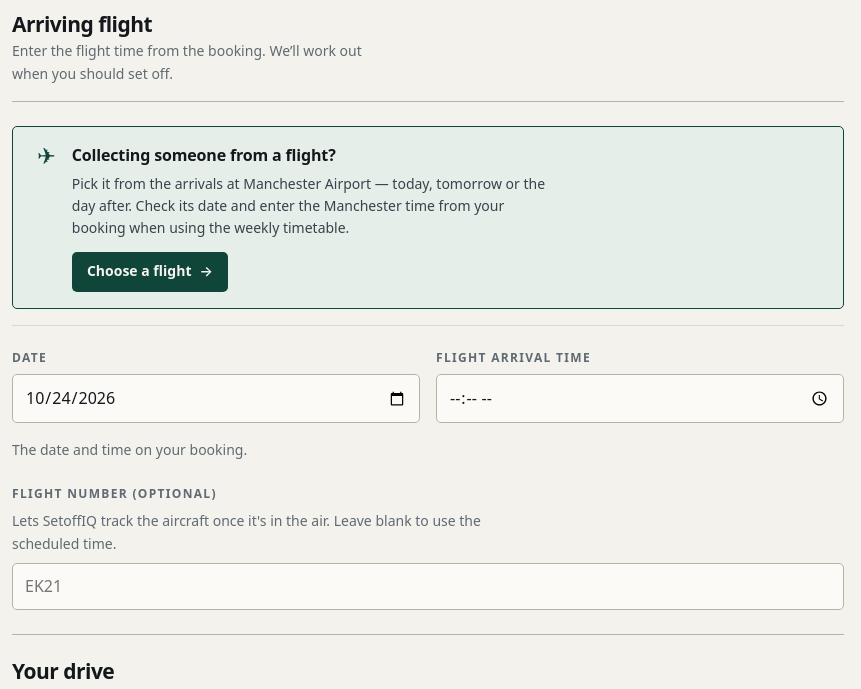
Test: choosing from the airline schedule › lists arrivals with their state, and a pick fills in the booking time
Click the button "Collecting someone from a flight".
click(428, 217)  # box [12,126,844,309]
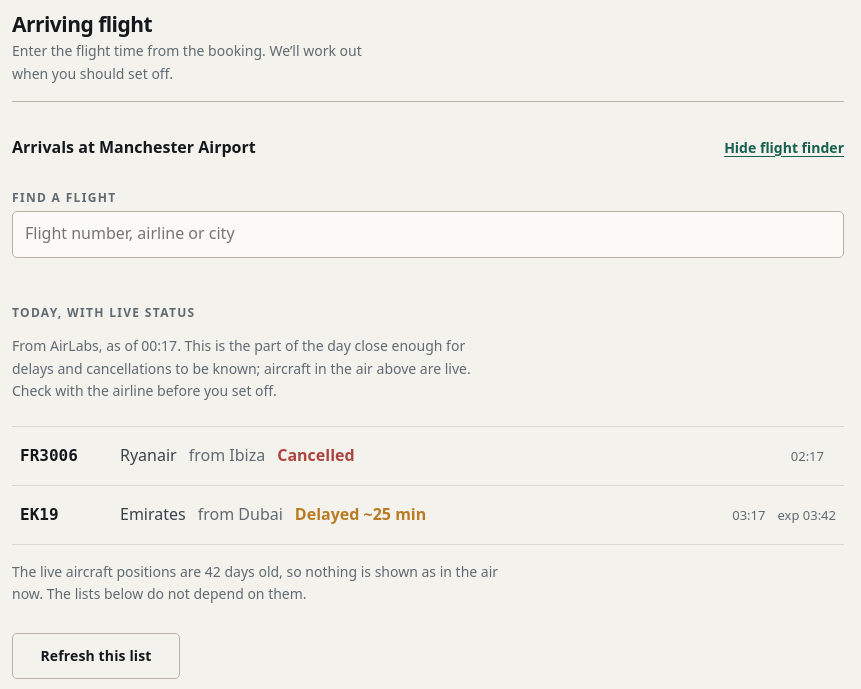
Expected: the button "FR3006 Ryanair from Ibiza Cancelled 02:17" is shown, [12,428,844,486]
Click the button "EK19 Emirates from Dubai Delayed ~25 min 03:17 exp 03:42".
click(428, 515)  # box [12,486,844,545]
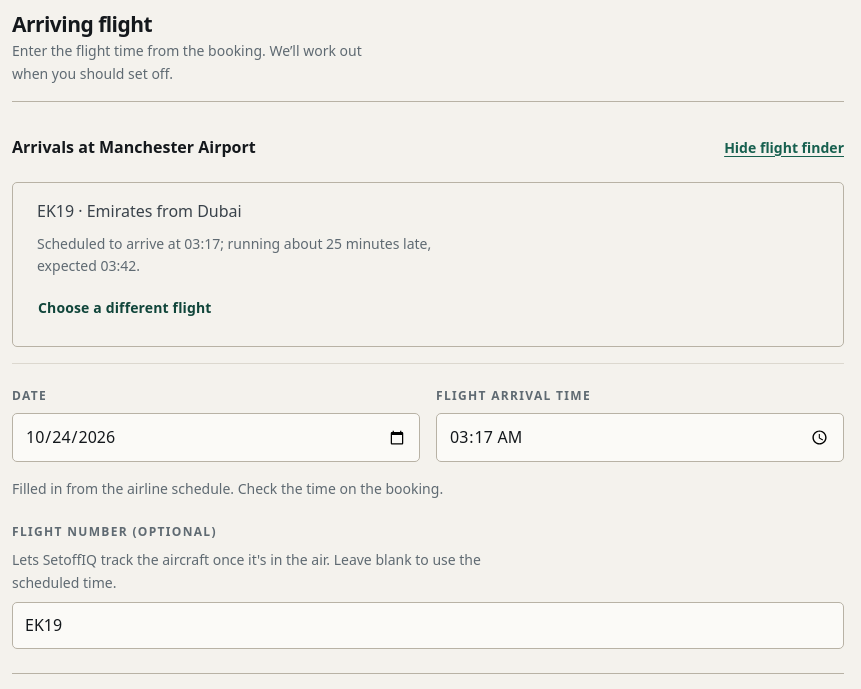
Expected: the field labelled "Flight number (optional)" holds "EK19", [12,602,844,649]
Expected: the message shows "running about 25 minutes late", [37,234,431,275]
Expected: the text "Filled in from the airline schedule" is shown, [12,479,443,498]
